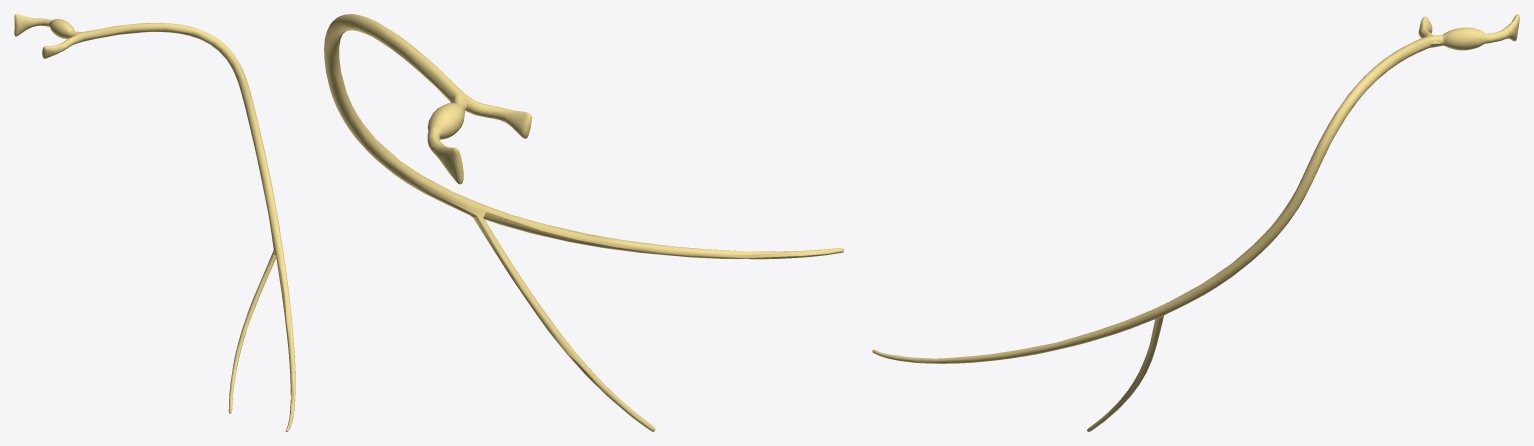
Rendered from fma6442_fj4260.glb.
The picture shows the model from 3 angles, left to right: view 1: azimuth 30°, elevation 25°; view 2: azimuth 150°, elevation 25°; view 3: azimuth 270°, elevation 25°; orthographic projection. The views are drawn at different scales.
Parts seen in each view (by area): view 1: FMA6442_FJ4260; view 2: FMA6442_FJ4260; view 3: FMA6442_FJ4260.
Boxes of the visible parts, left/top/right/bottom form: FMA6442_FJ4260: left=14, top=14, right=295, bottom=431; FMA6442_FJ4260: left=324, top=14, right=843, bottom=431; FMA6442_FJ4260: left=872, top=14, right=1519, bottom=431.
Size of the model in its own units: 0.0316 by 0.056 by 0.0835.
